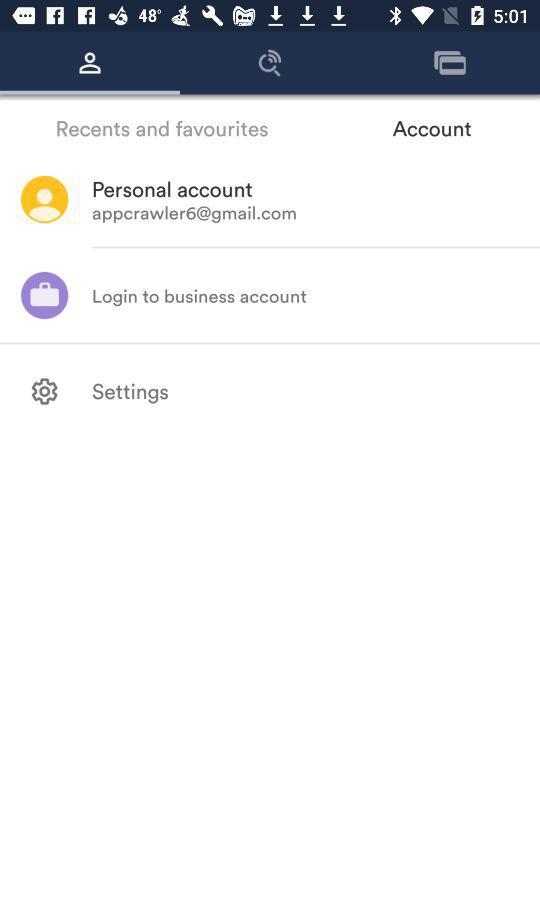Icon: (21, 176, 70, 225), (21, 272, 70, 320), (433, 50, 467, 77), (32, 377, 59, 406), (259, 50, 283, 79), (79, 52, 103, 76)
Multi_Tab: (1, 34, 539, 98)
Text: (93, 182, 297, 225), (94, 288, 308, 307), (57, 121, 269, 139), (92, 383, 169, 405), (393, 121, 472, 138)
UpperTaskBar: (1, 1, 540, 33)
